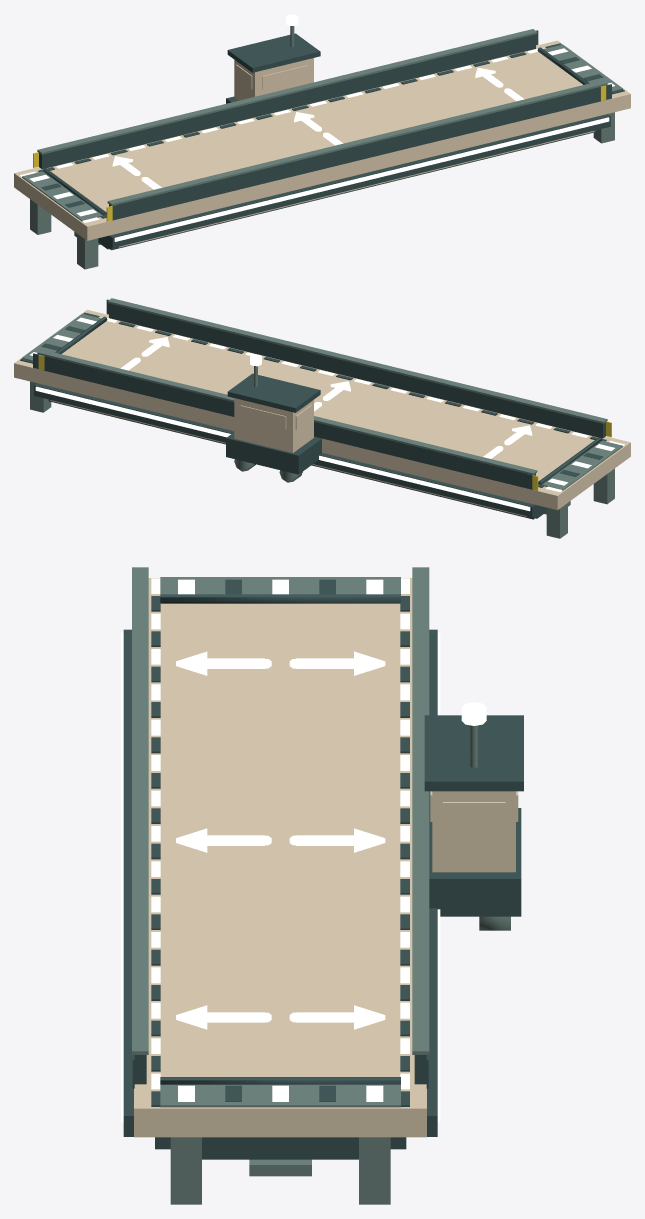
The model's file is Deck_Ferry_v4_12_lab2.glb.
The picture shows the model from 3 angles, top to bottom: view 1: azimuth 30°, elevation 25°; view 2: azimuth 150°, elevation 25°; view 3: azimuth 270°, elevation 25°; orthographic projection. The views are drawn at different scales.
Parts seen in each view (by area): view 1: Deck_Ferry_v4_12; view 2: Deck_Ferry_v4_12; view 3: Deck_Ferry_v4_12.
Part boxes in pixels (x1,y1,x2,y2): Deck_Ferry_v4_12: [14, 14, 630, 269]; Deck_Ferry_v4_12: [14, 298, 630, 538]; Deck_Ferry_v4_12: [121, 567, 523, 1204].
Bounding box in the file's own units: 12 × 2.7 × 3.85.
